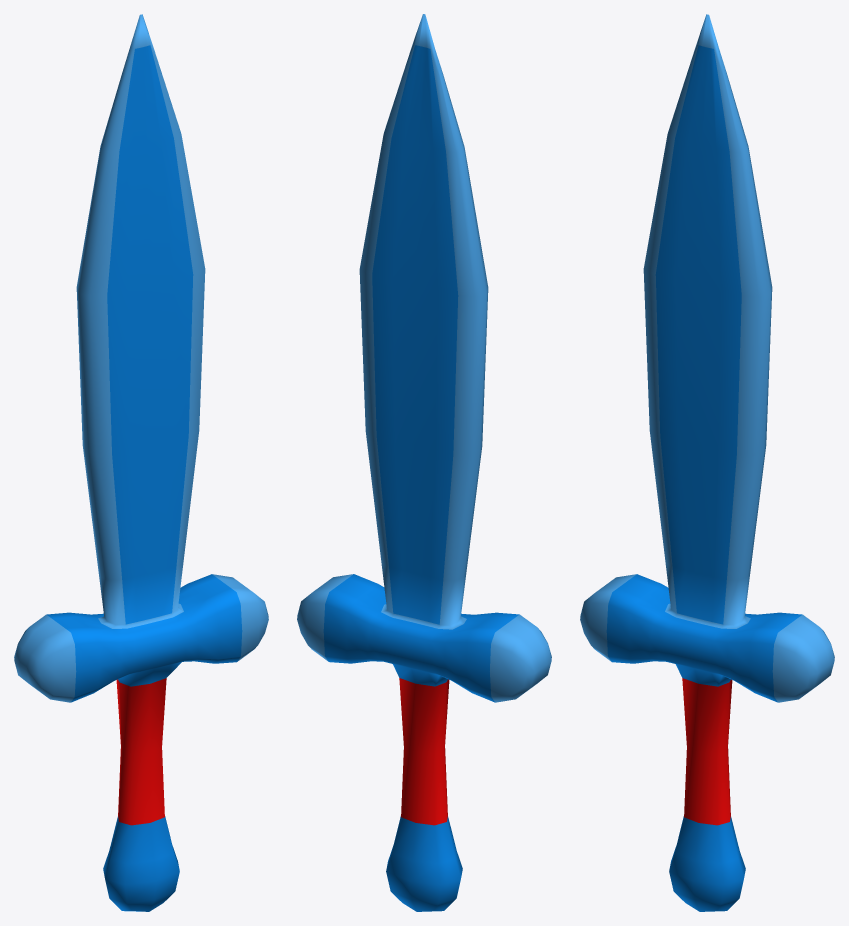
The model's file is Sword.fbx.
The picture shows the model from 3 angles, left to right: view 1: azimuth 30°, elevation 25°; view 2: azimuth 150°, elevation 25°; view 3: azimuth 330°, elevation 25°; orthographic projection.
Visible parts, largest first — view 1: Sword; view 2: Sword; view 3: Sword.
Part boxes in pixels (box(x1,y1,x2,y2)): Sword: box(14, 14, 268, 911); Sword: box(297, 14, 551, 911); Sword: box(580, 14, 834, 911).
Size of the model in its own units: 40.54 by 146 by 10.83.
